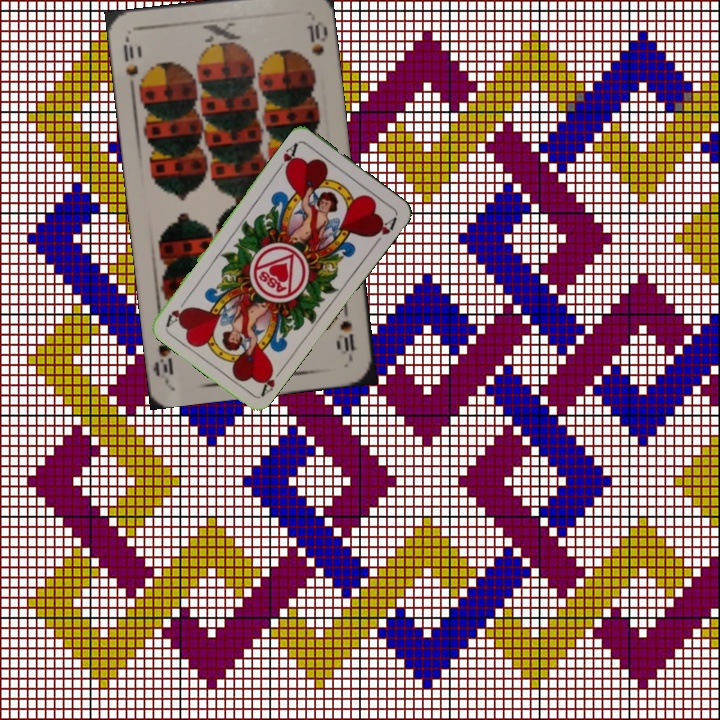HA: (256, 363, 286, 398), (273, 139, 302, 175)
S10: (119, 34, 147, 93), (336, 301, 359, 360)
